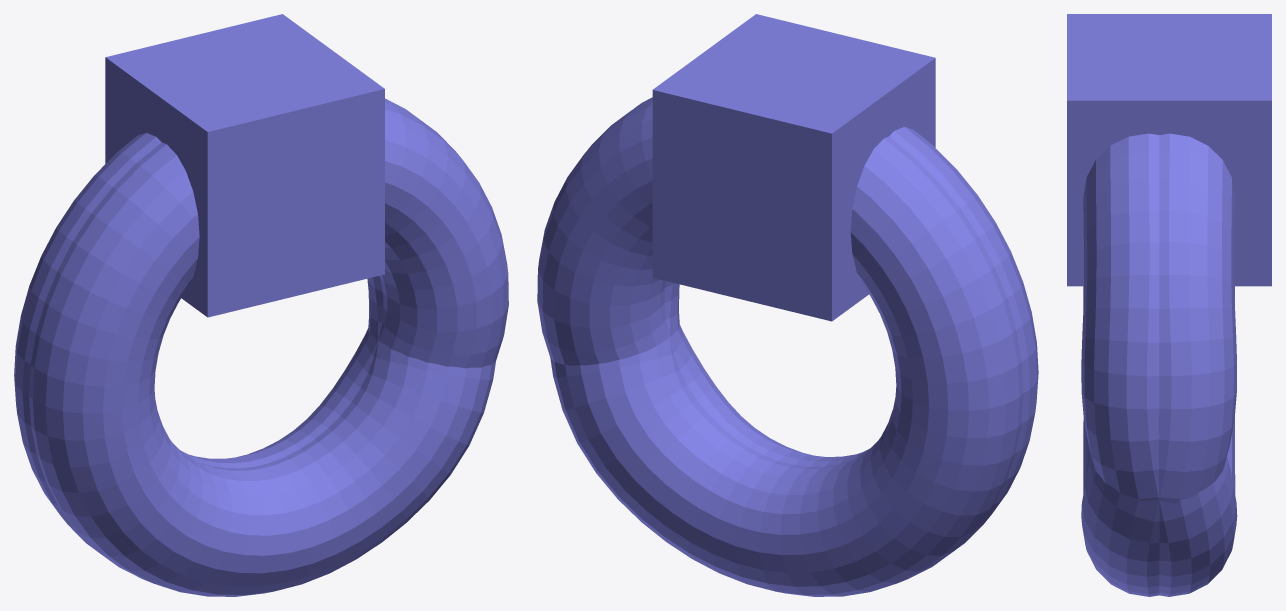
The model's file is doubleLoopWithCube.obj.
3 renders of one model, left to right at view 1: azimuth 30°, elevation 25°; view 2: azimuth 150°, elevation 25°; view 3: azimuth 270°, elevation 25°, orthographic.
Visible parts, largest first — view 1: pCube2; view 2: pCube2; view 3: pCube2.
Part boxes in pixels (x1,y1,x2,y2): pCube2: (14,14,508,596); pCube2: (537,14,1038,596); pCube2: (1067,14,1271,596).
Size of the model in its own units: 2.64 by 2.74 by 1.
